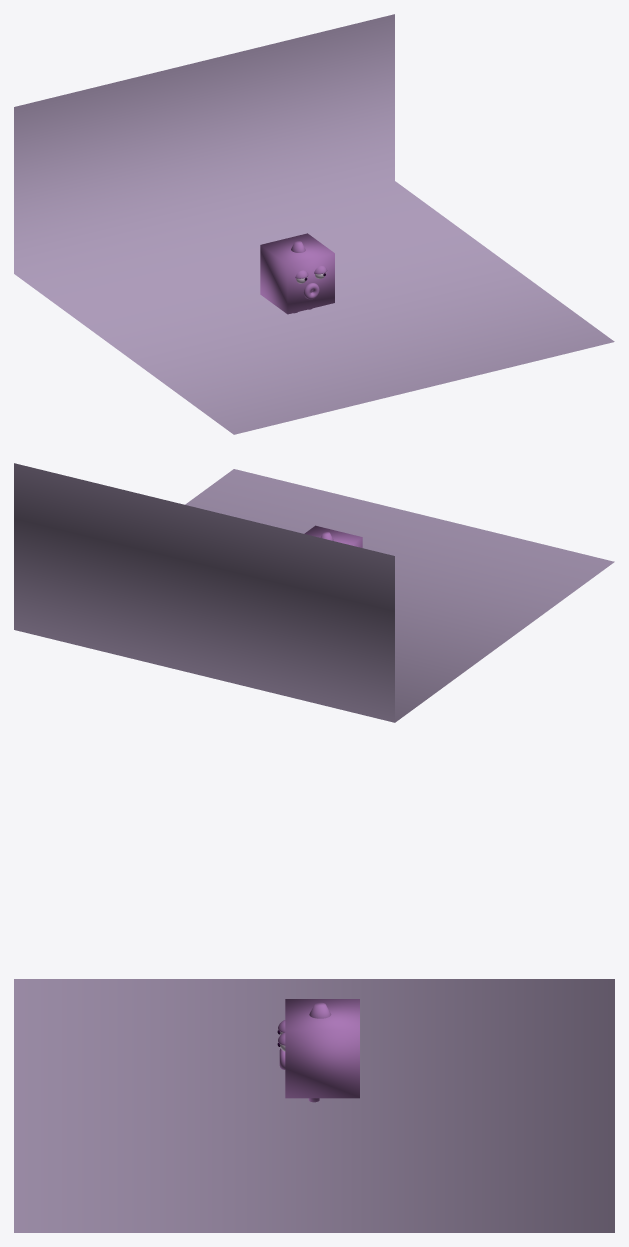
3 views of the same model, one above another, from view 1: azimuth 30°, elevation 25°; view 2: azimuth 150°, elevation 25°; view 3: azimuth 270°, elevation 25° (orthographic). The views are drawn at different scales.
Visible parts, largest first — view 1: 平面, Cube; view 2: 平面, Cube; view 3: 平面, Cube.
Part boxes in pixels (box(x1,y1,x2,y2)): 平面: box(14, 14, 614, 434); Cube: box(260, 233, 334, 314); 平面: box(14, 463, 614, 722); Cube: box(304, 525, 362, 547); 平面: box(14, 979, 614, 1232); Cube: box(285, 999, 359, 1098).
Size of the model in its own units: 16.08 by 6.73 by 16.08.
